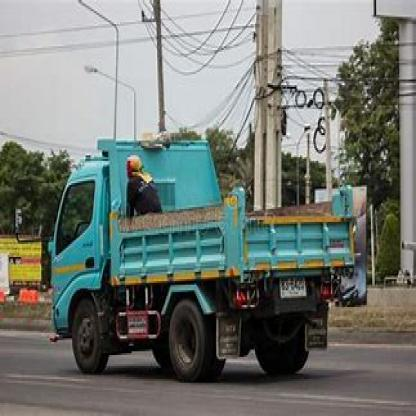dump_truck: (44, 133, 382, 396)
